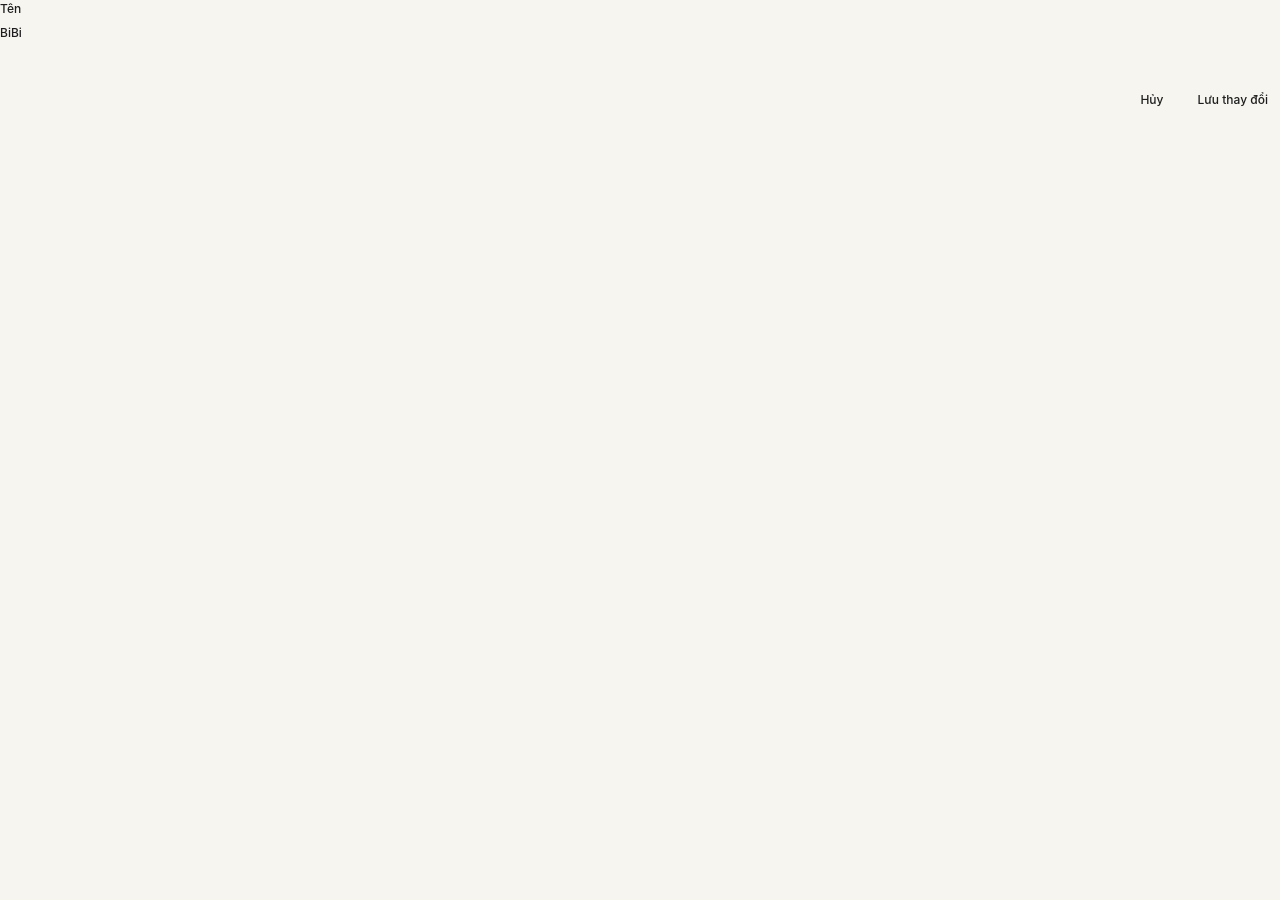
Test: cancel asks before discarding and restores the saved values
This screenshot has width=1280, height=900.
Replace the text in the field labelled "Tên" with "Changed" at point(316, 33), box [0,24,631,42]
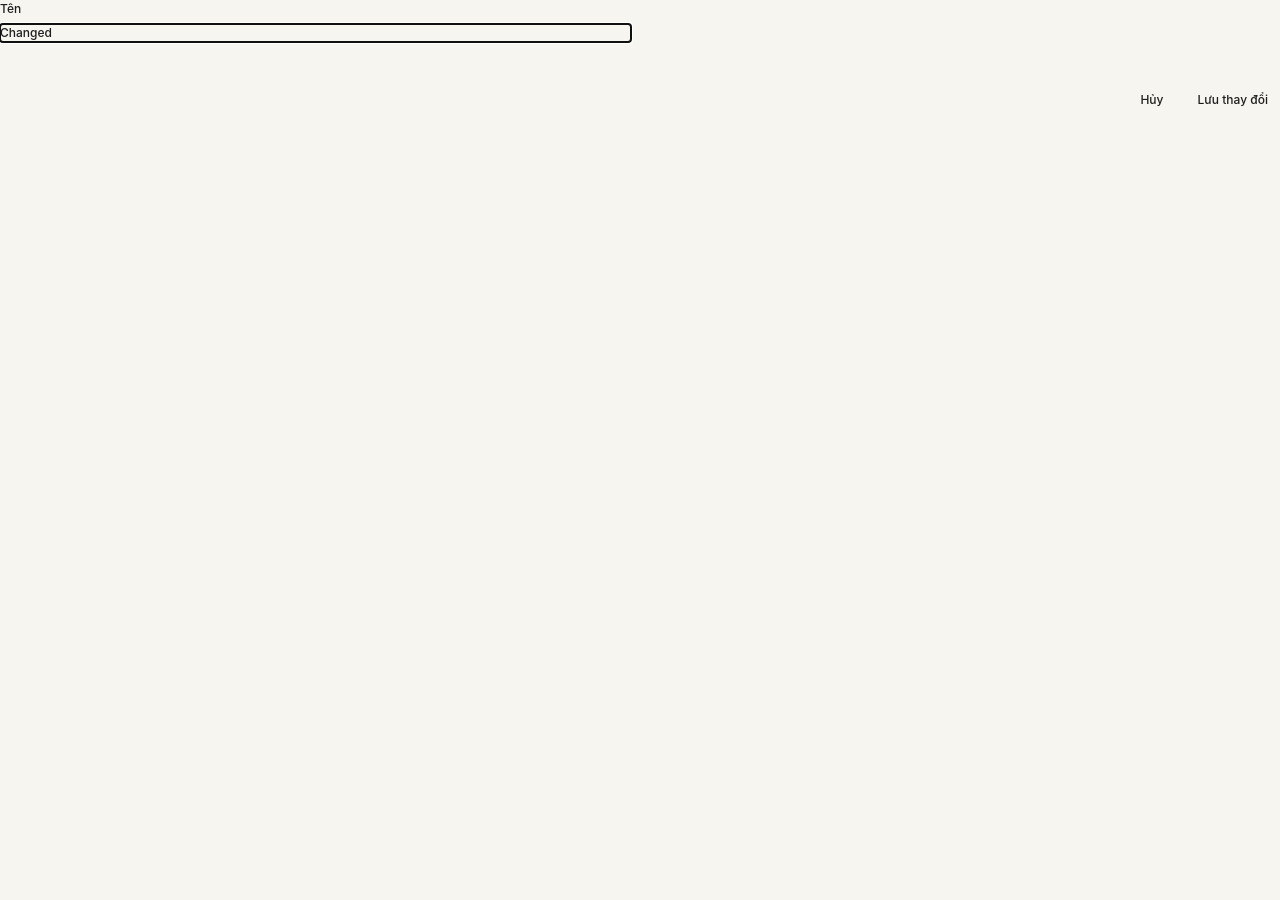
Click the button "Hủy" at point(1152, 100), box [1128,82,1176,118]
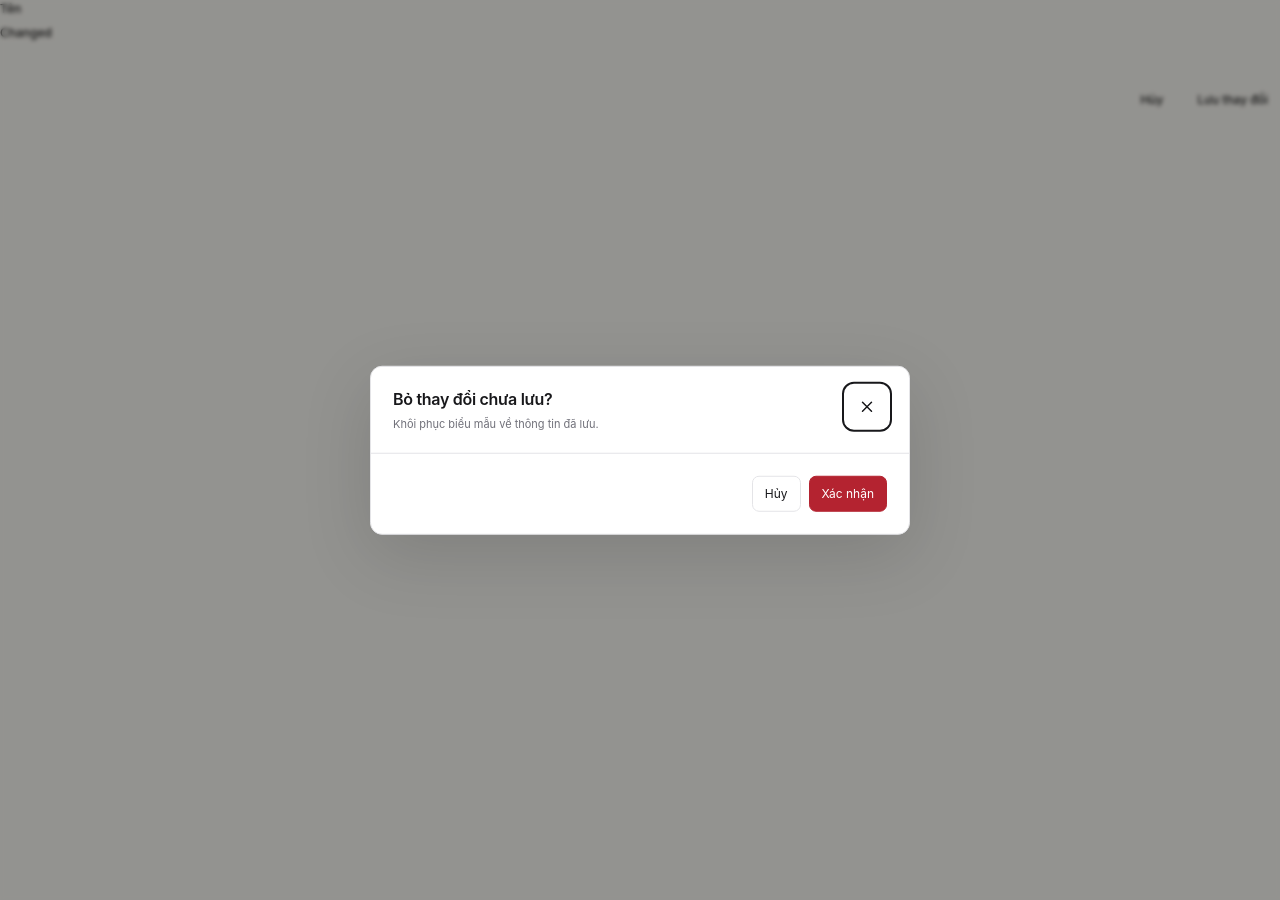
Expected: the dialog "Bỏ thay đổi chưa lưu?" is shown, [370,366,910,534]
Click the button "Xác nhận" at point(848, 493), box [808,475,887,511]
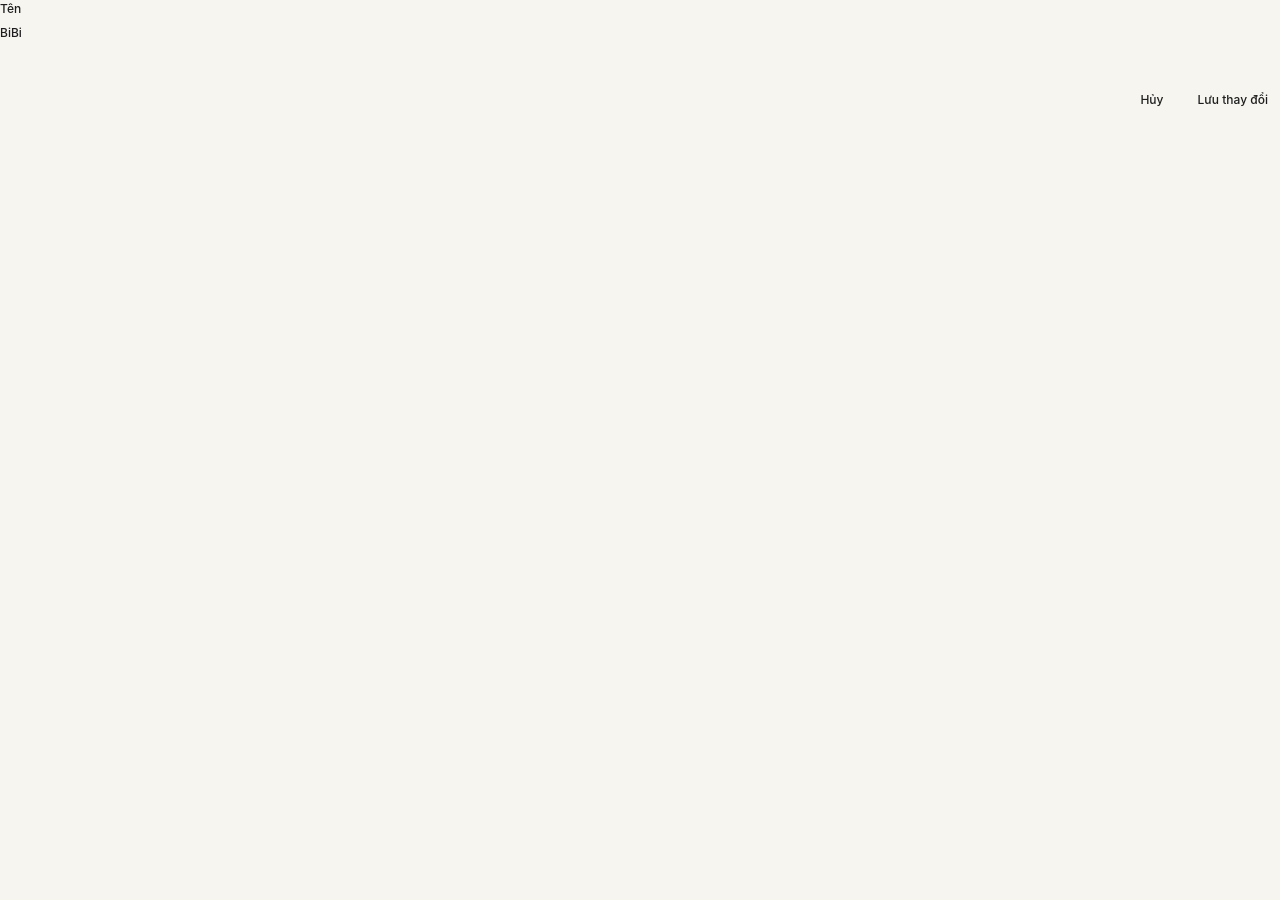
Expected: the field labelled "Tên" holds "BiBi", [0,24,631,42]
